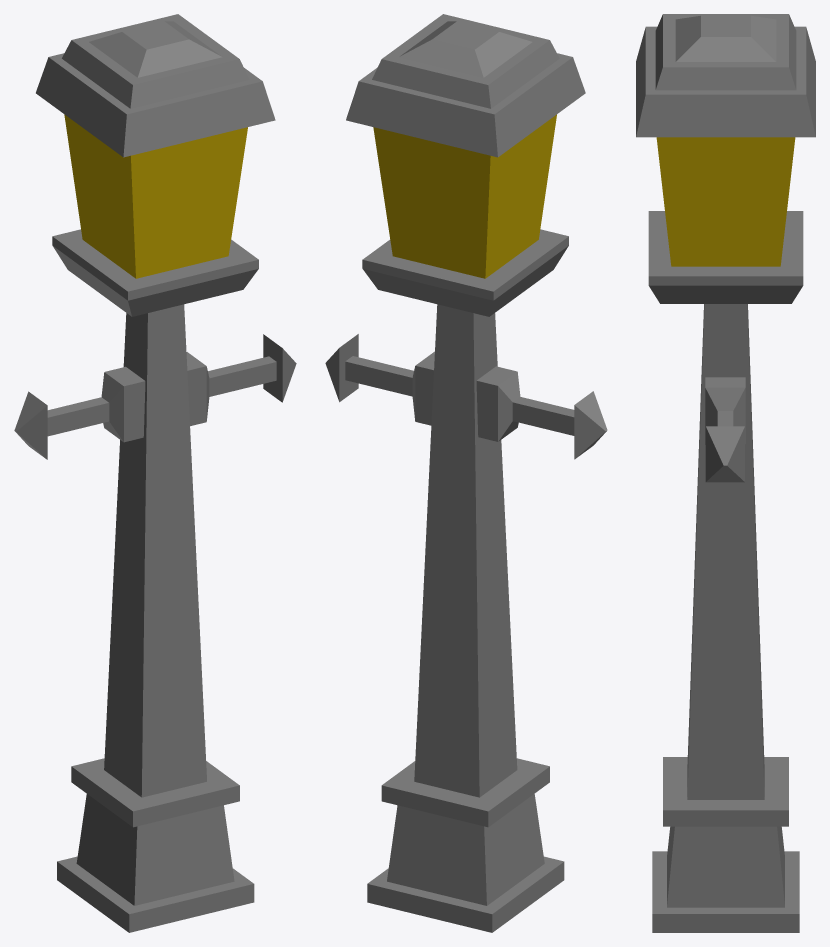
The model's file is Prop_Lamp_Post_Metal_Spiked_01.fbx.
3 views of the same model, side by side, from view 1: azimuth 30°, elevation 25°; view 2: azimuth 150°, elevation 25°; view 3: azimuth 270°, elevation 25° (orthographic). The views are drawn at different scales.
Visible parts, largest first — view 1: Prop_Lamp_Post_Metal_Spiked_01; view 2: Prop_Lamp_Post_Metal_Spiked_01; view 3: Prop_Lamp_Post_Metal_Spiked_01.
Part boxes in pixels (x1,y1,x2,y2): Prop_Lamp_Post_Metal_Spiked_01: (14, 14, 296, 932); Prop_Lamp_Post_Metal_Spiked_01: (325, 14, 607, 932); Prop_Lamp_Post_Metal_Spiked_01: (636, 14, 815, 932).
Size of the model in its own units: 821 by 2393 by 445.
